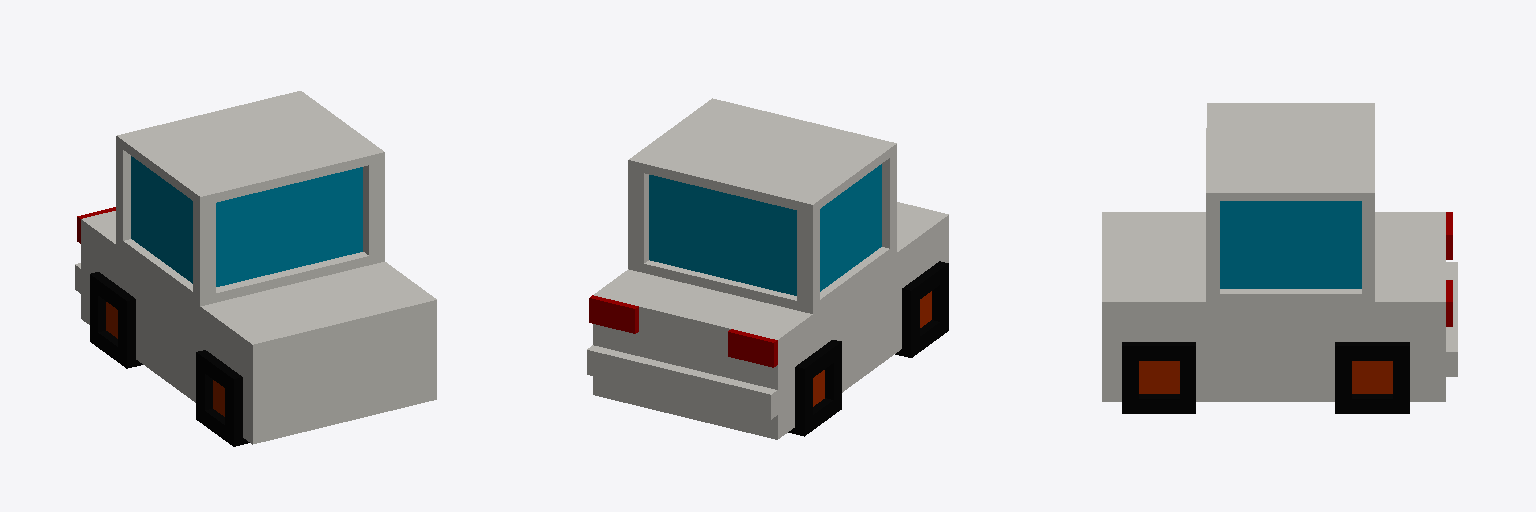
File: player.obj
3 renders of one model, left to right at view 1: azimuth 30°, elevation 25°; view 2: azimuth 150°, elevation 25°; view 3: azimuth 270°, elevation 25°, orthographic.
Visible parts, largest first — view 1: Cube, Cube.002_Cube.001, Cube.001; view 2: Cube, Cube.002_Cube.001, Cube.001; view 3: Cube, Cube.004_Cube.001, Cube.003_Cube.001.
Boxes of the visible parts, <box> form: Cube: <box>75,91,436,444</box>; Cube.002_Cube.001: <box>196,350,249,446</box>; Cube.001: <box>90,272,142,368</box>; Cube: <box>587,98,948,439</box>; Cube.002_Cube.001: <box>895,261,948,357</box>; Cube.001: <box>788,340,841,436</box>; Cube: <box>1102,103,1457,401</box>; Cube.004_Cube.001: <box>1335,342,1409,413</box>; Cube.003_Cube.001: <box>1122,342,1195,413</box>.
Size of the model in its own units: 2.2 by 2.24 by 3.34.